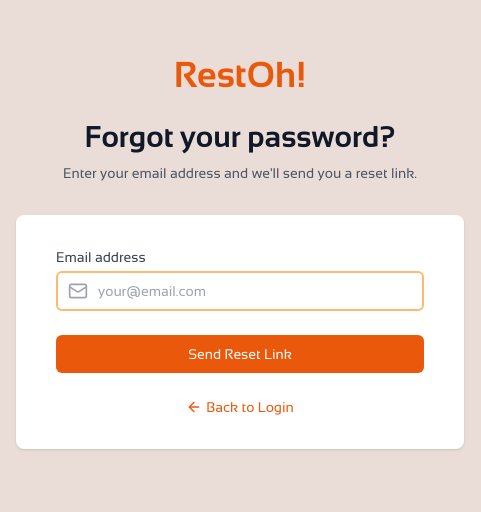
Test case: ForgotPassword Component › Successful Submission › should display success screen after successful submission
Type "user@example.com" into the field labelled "Email address" at (240, 291), box [56,271,424,311]
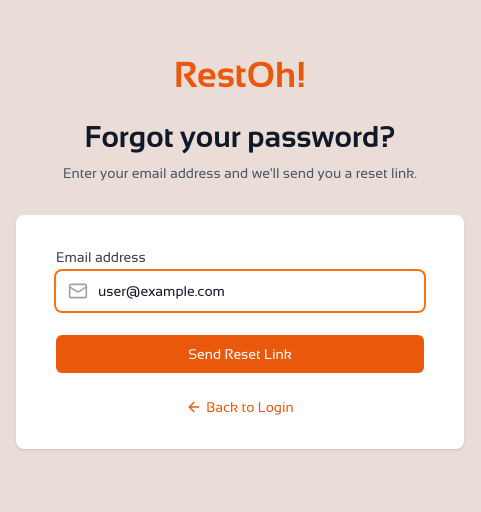
Click the button "Send Reset Link" at (240, 354), box [56,335,424,373]
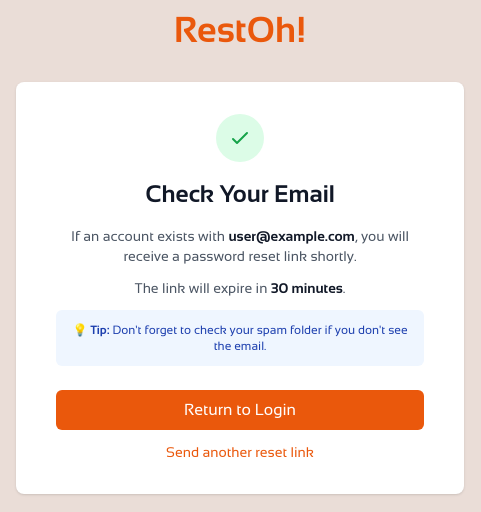
Check: the heading "Check Your Email" is shown, box [145,180,335,207]
Check: the text "If an account exists with" is shown, box [71,228,228,244]
Check: the text "user@example.com" is shown, box [228,228,355,244]
